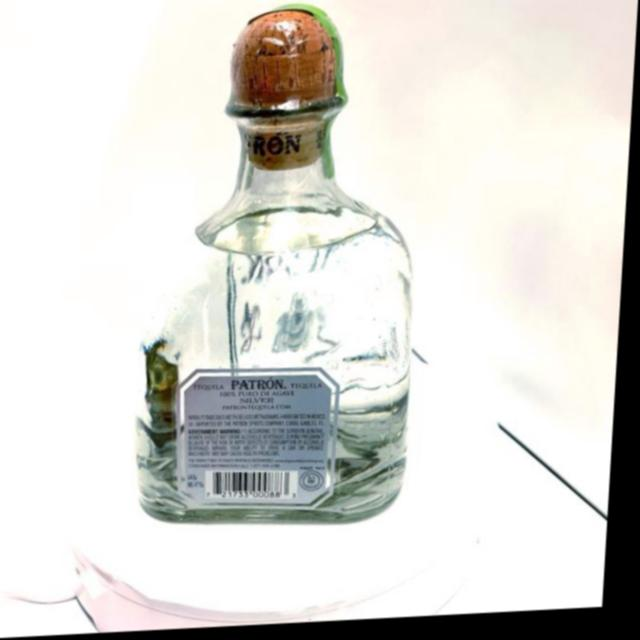PATRON-SILVER-750ML: (138, 0, 437, 536)
